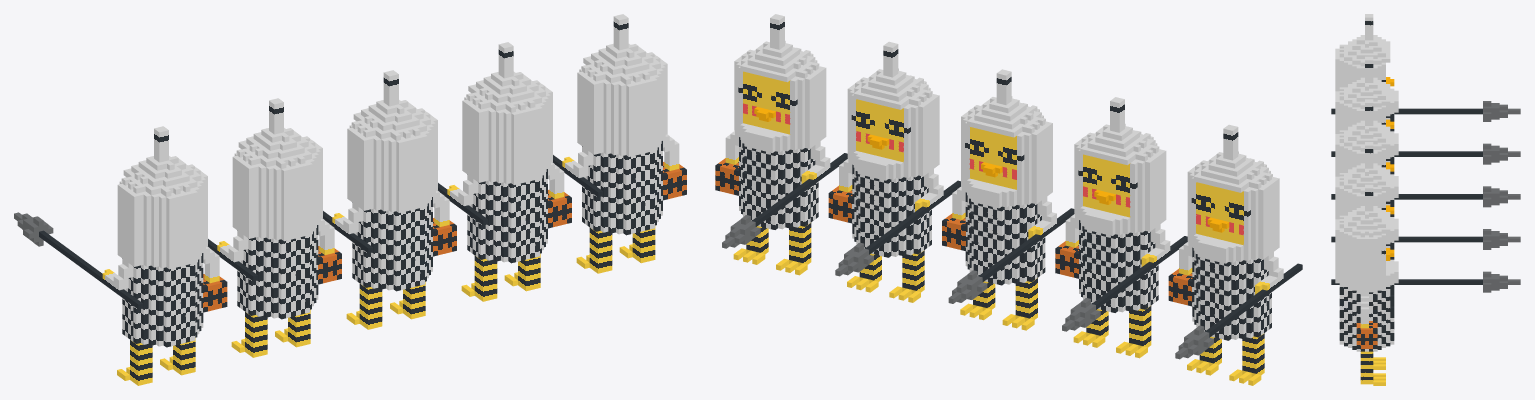
Rendered from 坤家军队.gltf.
3 views of the same model, side by side, from view 1: azimuth 30°, elevation 25°; view 2: azimuth 150°, elevation 25°; view 3: azimuth 270°, elevation 25° (orthographic). The views are drawn at different scales.
Parts seen in each view (by area): view 1: Object; view 2: Object; view 3: Object.
Part boxes in pixels (bbox=[...]): Object: bbox=[14, 14, 686, 385]; Object: bbox=[715, 14, 1302, 385]; Object: bbox=[1331, 14, 1520, 385].
Bounding box in the file's own units: 120 × 49 × 45.
1 material, 1 textured.
